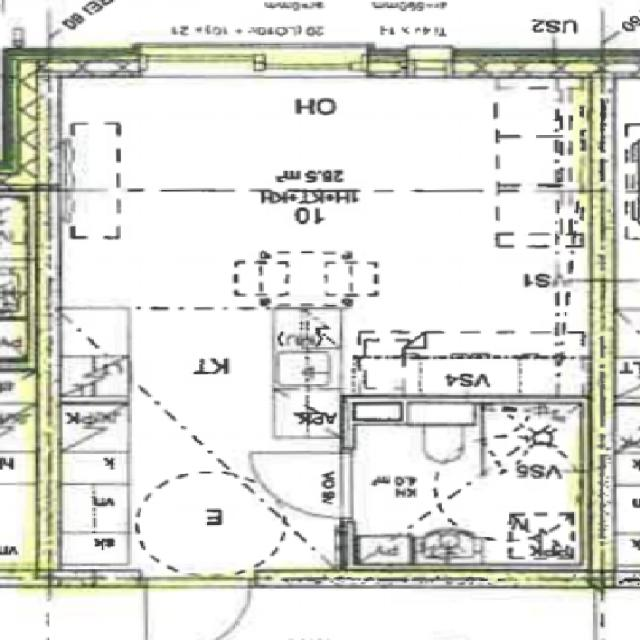door: (142, 568, 256, 640), (250, 453, 352, 518)
